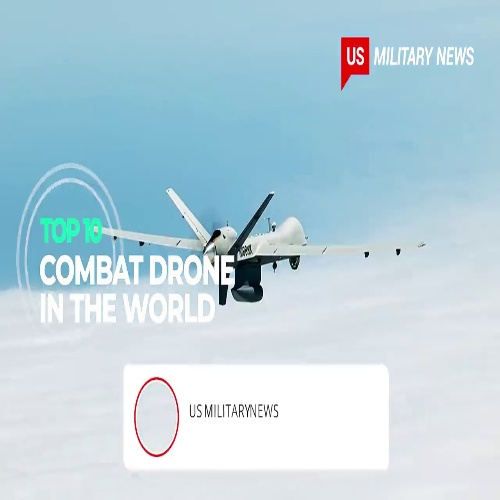uav: (93, 186, 428, 306)
